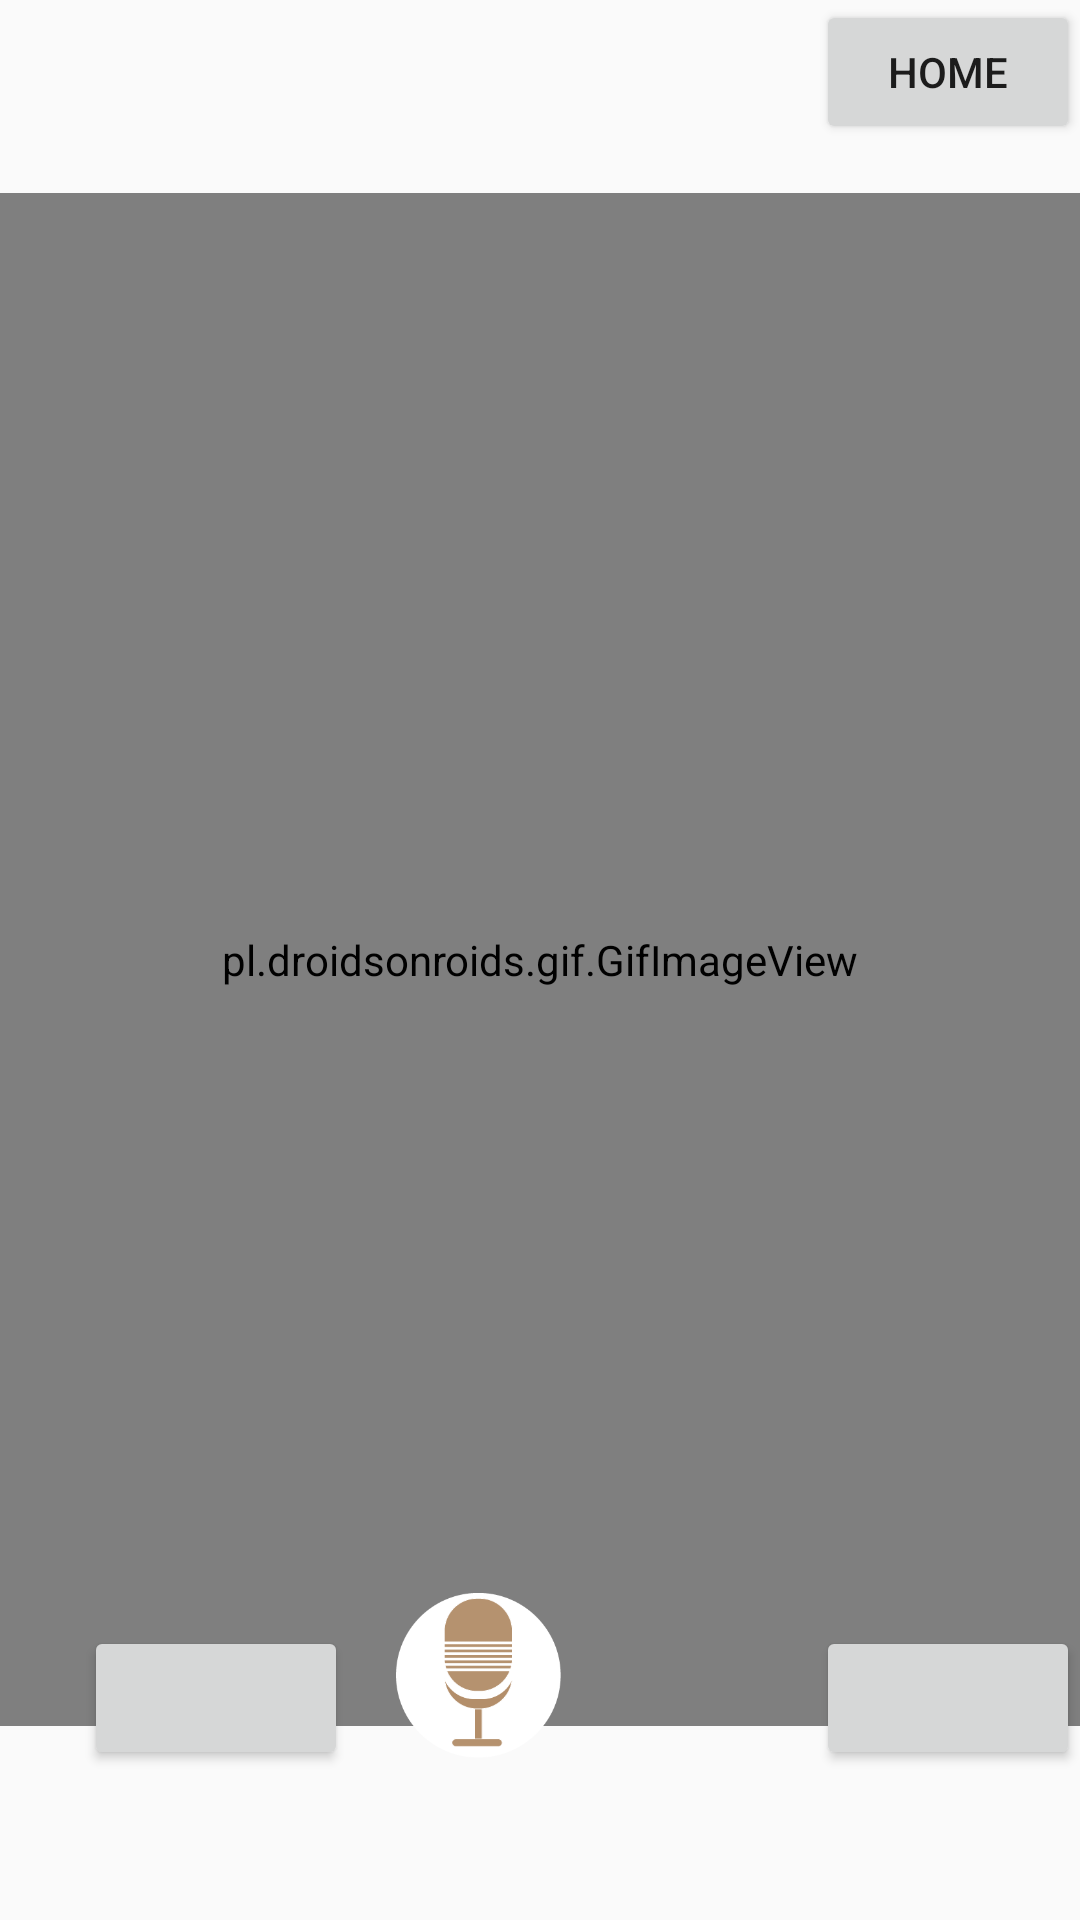

Icon click points for this 1080px×1920px phone screenshot, format (x,y):
mic: (478,1681)
